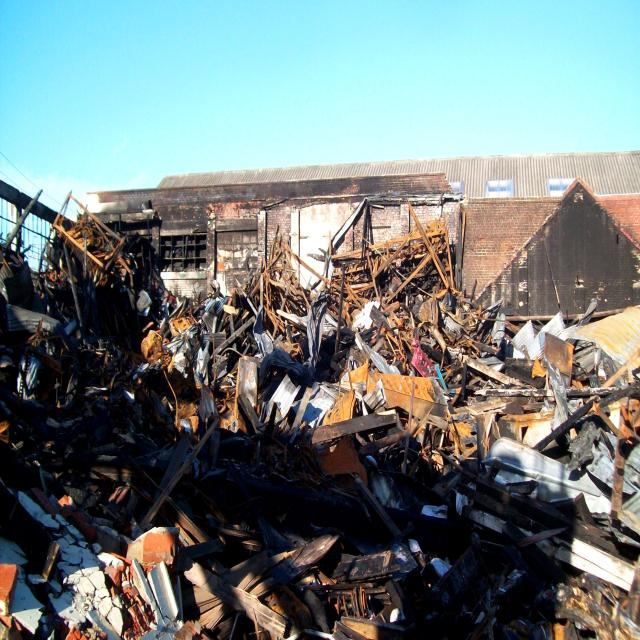metal: (231, 266, 462, 416)
